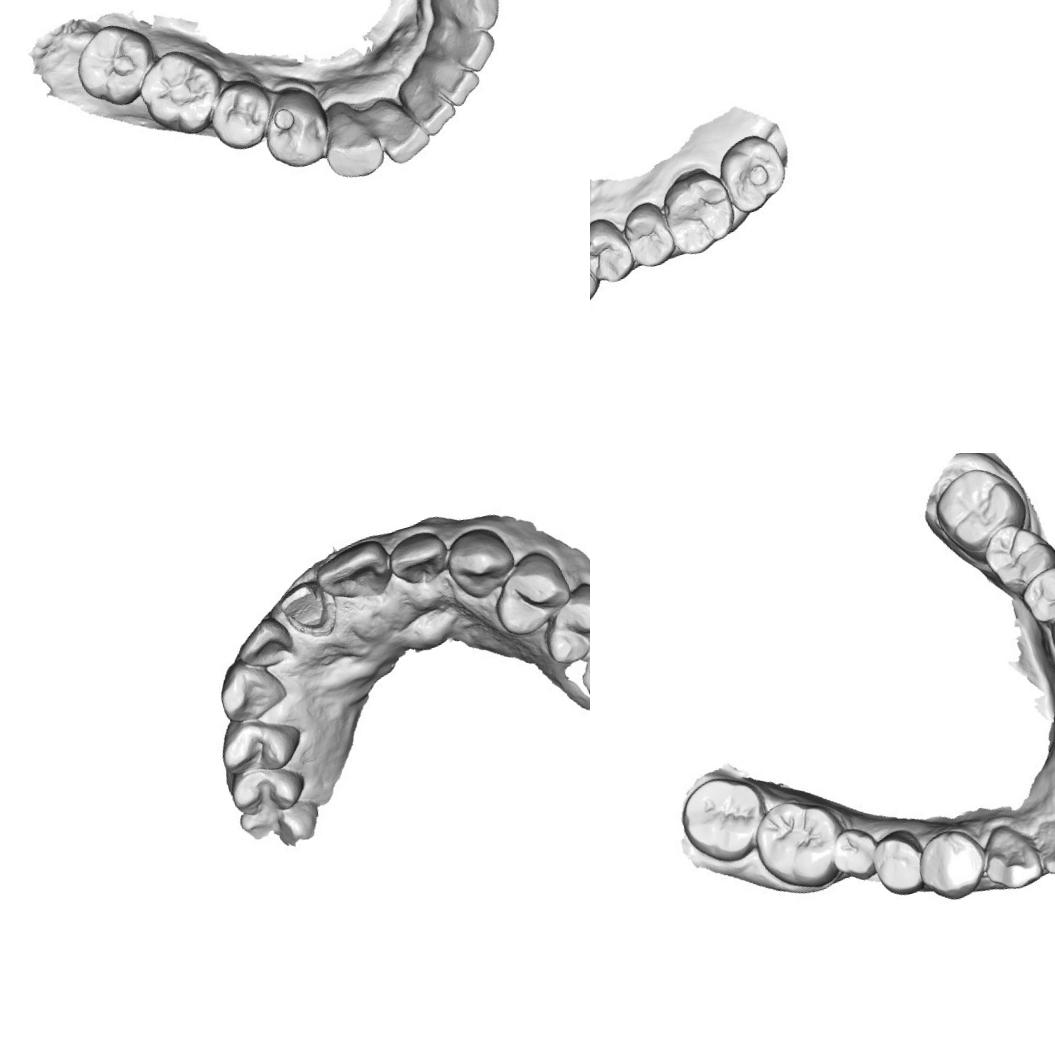canine: (310, 90, 390, 186), (442, 518, 522, 602), (212, 650, 290, 726), (976, 820, 1042, 889), (425, 0, 509, 42)
crown: (271, 572, 338, 642)
incisor: (314, 536, 398, 606), (385, 519, 453, 593), (369, 90, 434, 166), (398, 67, 462, 142), (421, 42, 485, 112), (232, 614, 300, 676), (436, 15, 498, 80), (1031, 810, 1055, 876)
molar: (124, 38, 232, 145), (668, 764, 776, 866), (748, 788, 852, 893), (66, 14, 166, 115), (932, 461, 1026, 553), (656, 161, 743, 260), (710, 127, 792, 220), (978, 515, 1055, 594), (820, 820, 886, 890)
premolar: (482, 544, 576, 644), (252, 78, 336, 178), (216, 700, 306, 784), (222, 748, 314, 824), (200, 74, 278, 158), (614, 193, 682, 273), (911, 826, 984, 900), (863, 825, 934, 901), (535, 579, 590, 666), (590, 212, 640, 290), (1018, 559, 1055, 627)
